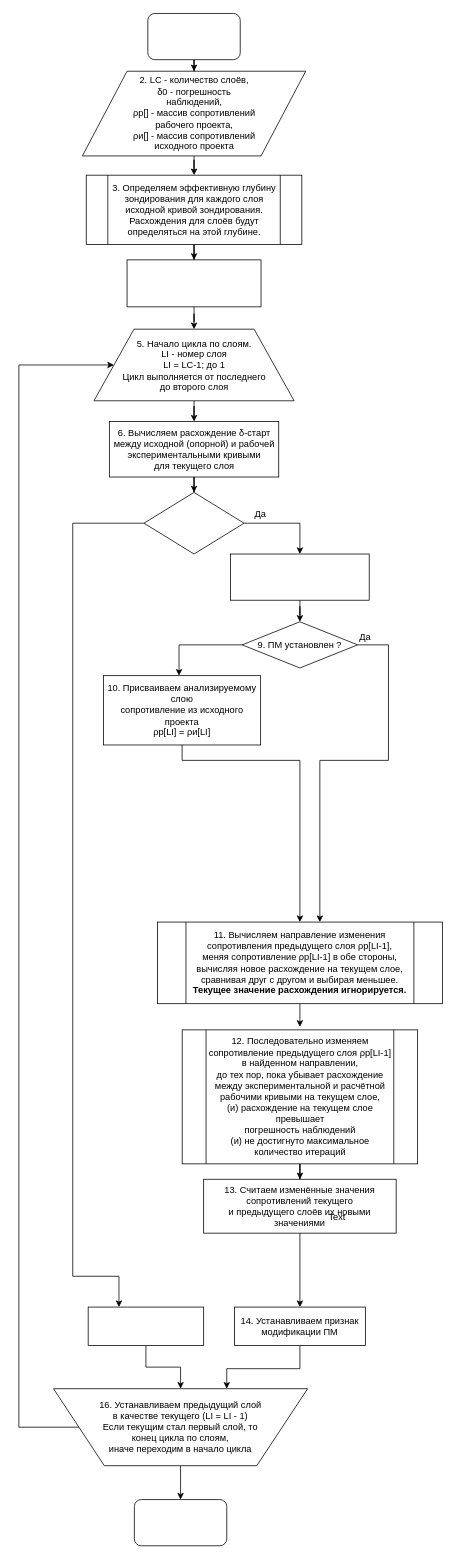
Image size: 456x1559. Some labels were removed from this diagram. Each missing label, with the centre of its shape:
1. Начало: the point at 193,36
15. Сбрасываем признак модификации ПМ: the point at 145,1326
17. Конец: the point at 180,1522
4. Сбрасываем признак модификации (ПМ) текущего проекта: the point at 193,283
7. δ-старт > δ0 ?: the point at 193,523
8. Сохраняем состояние слоёв рабочего пикета: the point at 299,576
